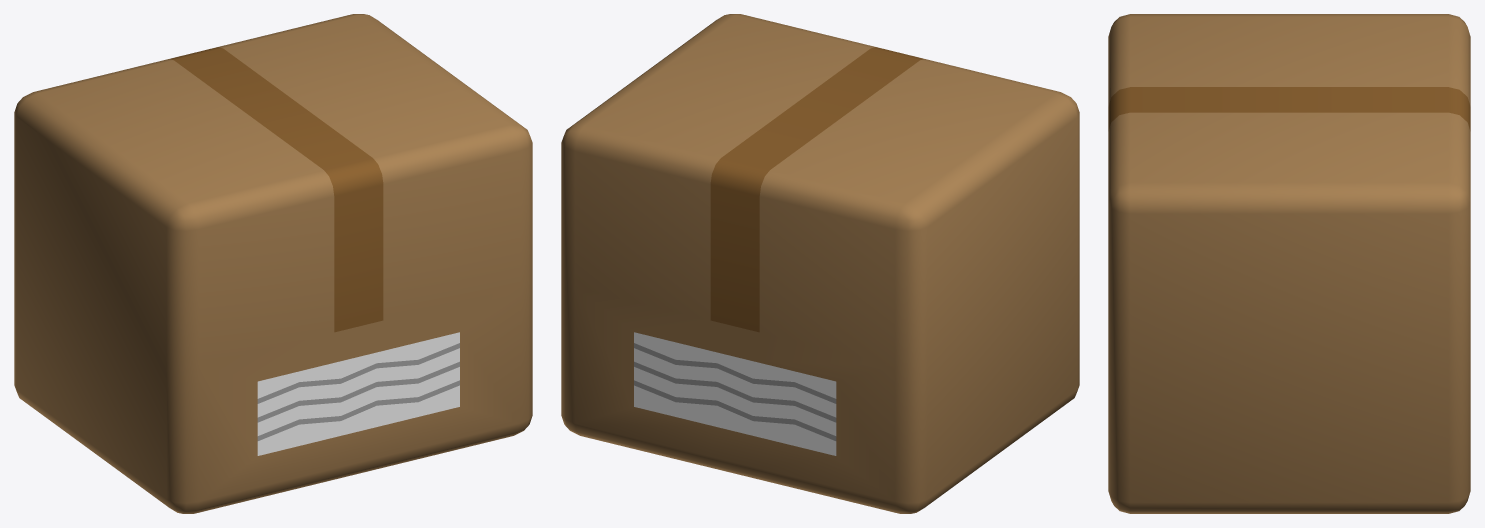
3 renders of one model, left to right at view 1: azimuth 30°, elevation 25°; view 2: azimuth 150°, elevation 25°; view 3: azimuth 270°, elevation 25°, orthographic. The views are drawn at different scales.
Visible parts, largest first — view 1: Box_4; view 2: Box_4; view 3: Box_4.
Part boxes in pixels (left/top/right/bottom): Box_4: left=14, top=14, right=532, bottom=513; Box_4: left=561, top=14, right=1079, bottom=513; Box_4: left=1108, top=14, right=1470, bottom=513.
Size of the model in its own units: 0.286 by 0.2324 by 0.2324.
